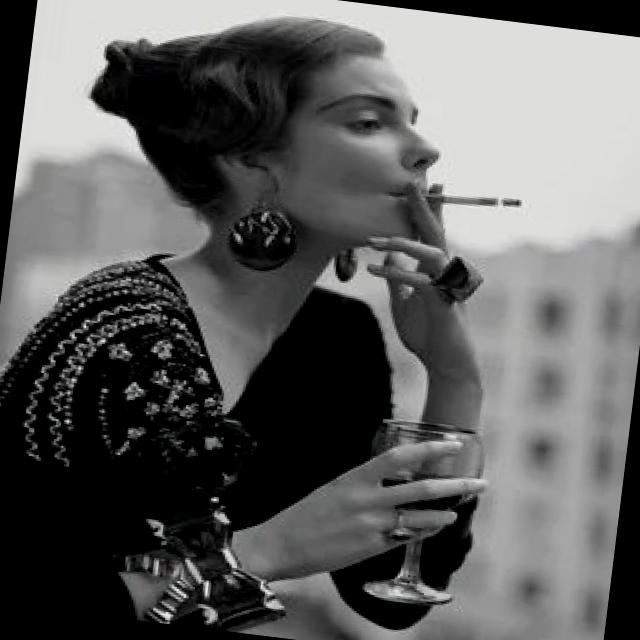cigarette: (408, 182, 535, 223)
